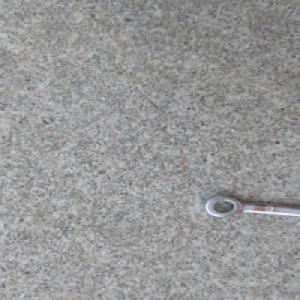Wrench: (202, 194, 300, 219)
